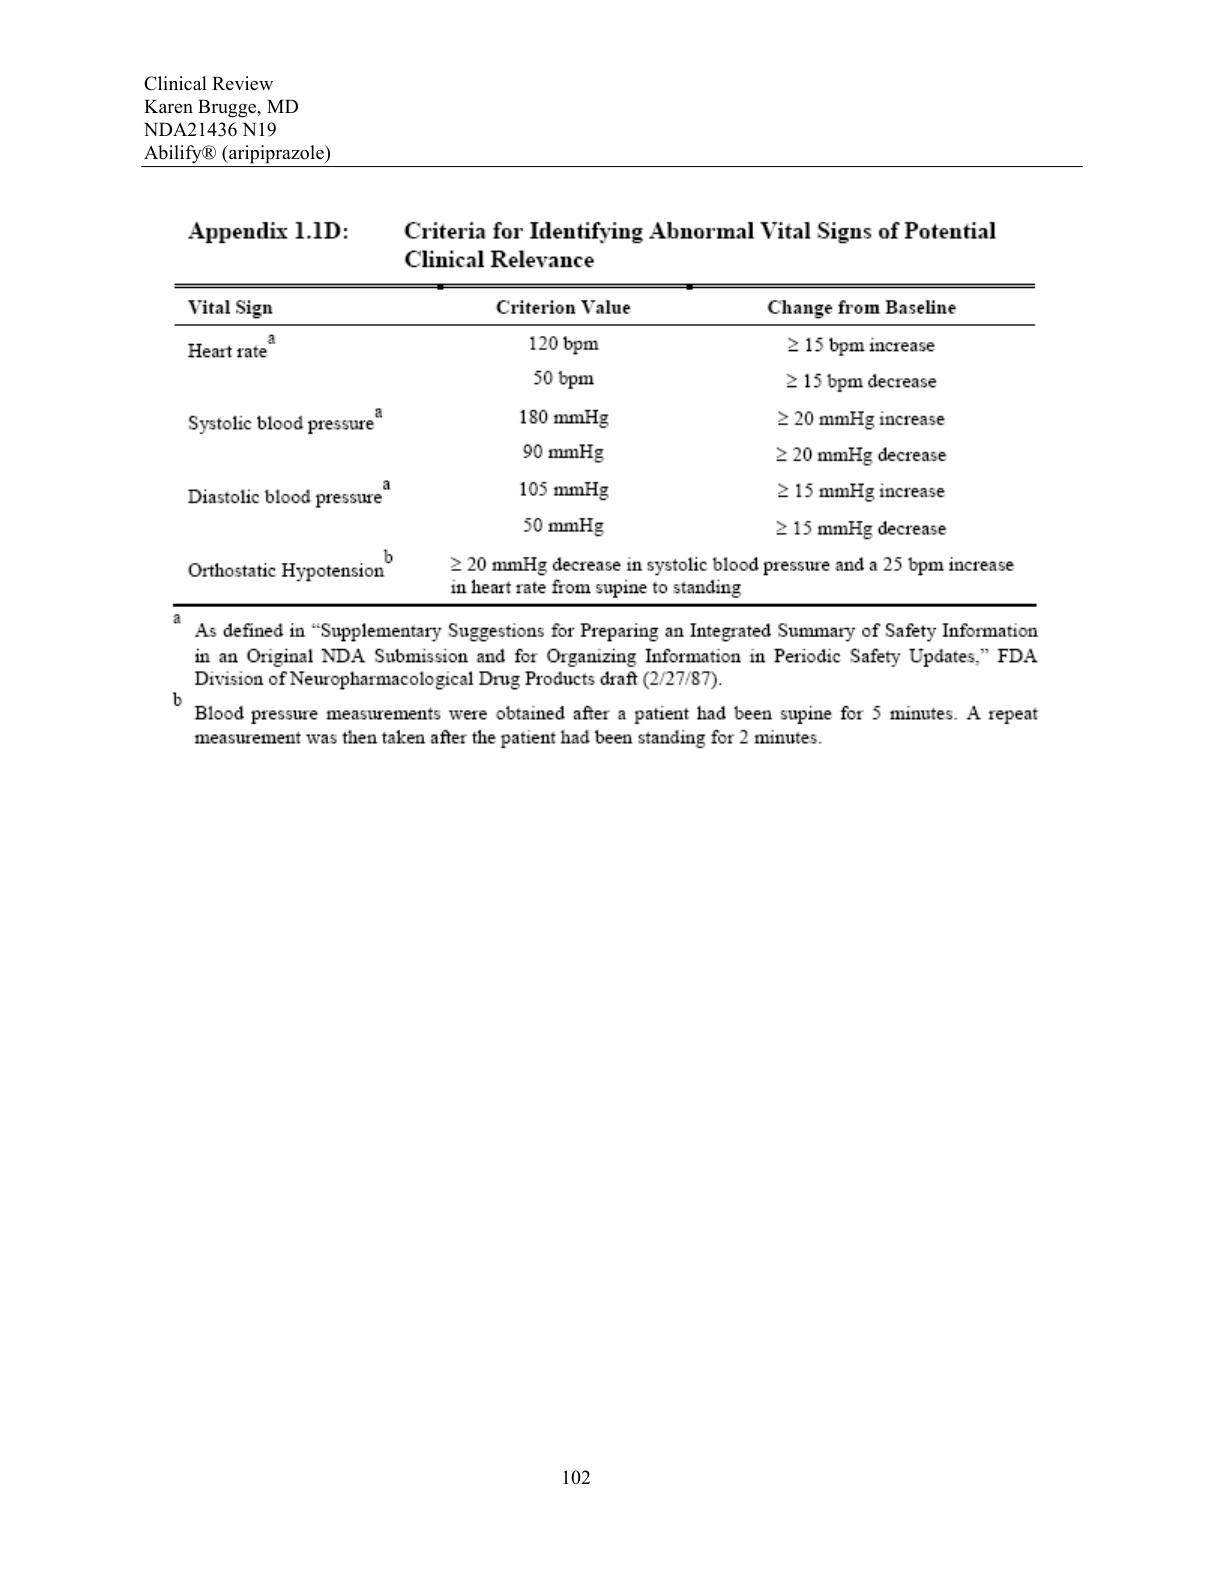partial_lined_merged_cells: (174, 283, 1038, 609)
